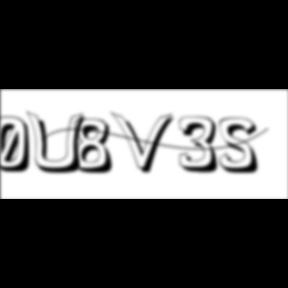0: (0, 115, 38, 174)
3: (179, 116, 225, 176)
8: (74, 117, 120, 176)
S: (219, 117, 265, 176)
U: (26, 110, 92, 176)
V: (112, 110, 178, 176)
